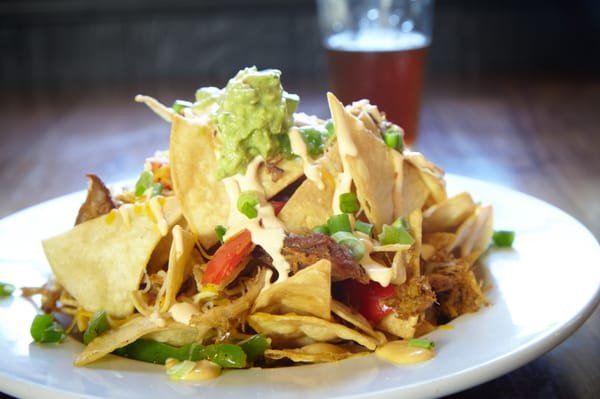pizza: (316, 1, 436, 146)
